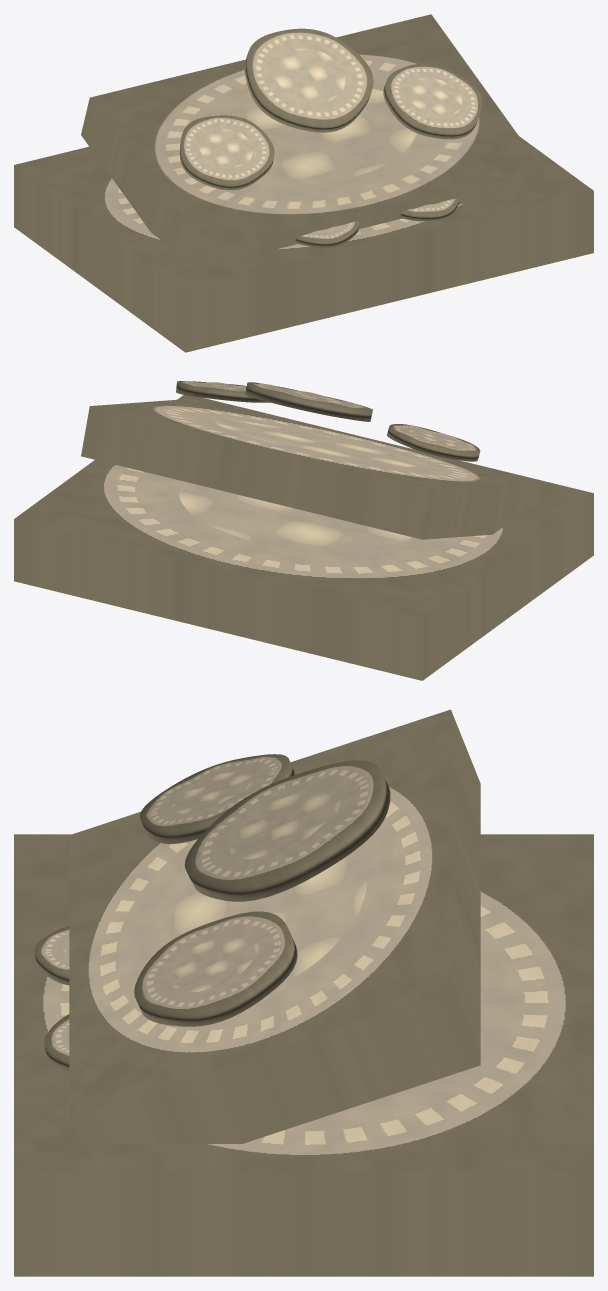
The model's file is ancient_coins.glb.
3 views of the same model, one above another, from view 1: azimuth 30°, elevation 25°; view 2: azimuth 150°, elevation 25°; view 3: azimuth 270°, elevation 25° (orthographic). The views are drawn at different scales.
Parts seen in each view (by area): view 1: Ancient Coins; view 2: Ancient Coins; view 3: Ancient Coins.
Part boxes in pixels (x1,y1,x2,y2): Ancient Coins: (14, 14, 593, 352); Ancient Coins: (14, 381, 593, 680); Ancient Coins: (14, 709, 593, 1276).
Size of the model in its own units: 0.4445 by 0.2 by 0.3233.
1 material, 1 textured.
